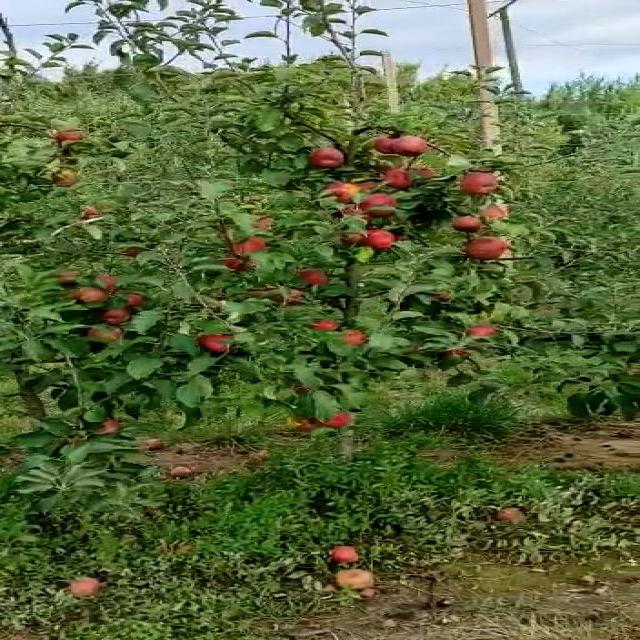100-_ripeness: (464, 238, 511, 267), (356, 192, 406, 217), (307, 148, 353, 174), (460, 171, 505, 196), (318, 183, 366, 205), (228, 234, 266, 259), (187, 333, 231, 354), (80, 285, 120, 308), (475, 204, 520, 224), (374, 226, 404, 254), (316, 407, 351, 428), (302, 269, 334, 291), (326, 327, 369, 343), (91, 320, 120, 343), (387, 136, 422, 155), (453, 210, 482, 232), (456, 324, 494, 338), (58, 172, 84, 190)
